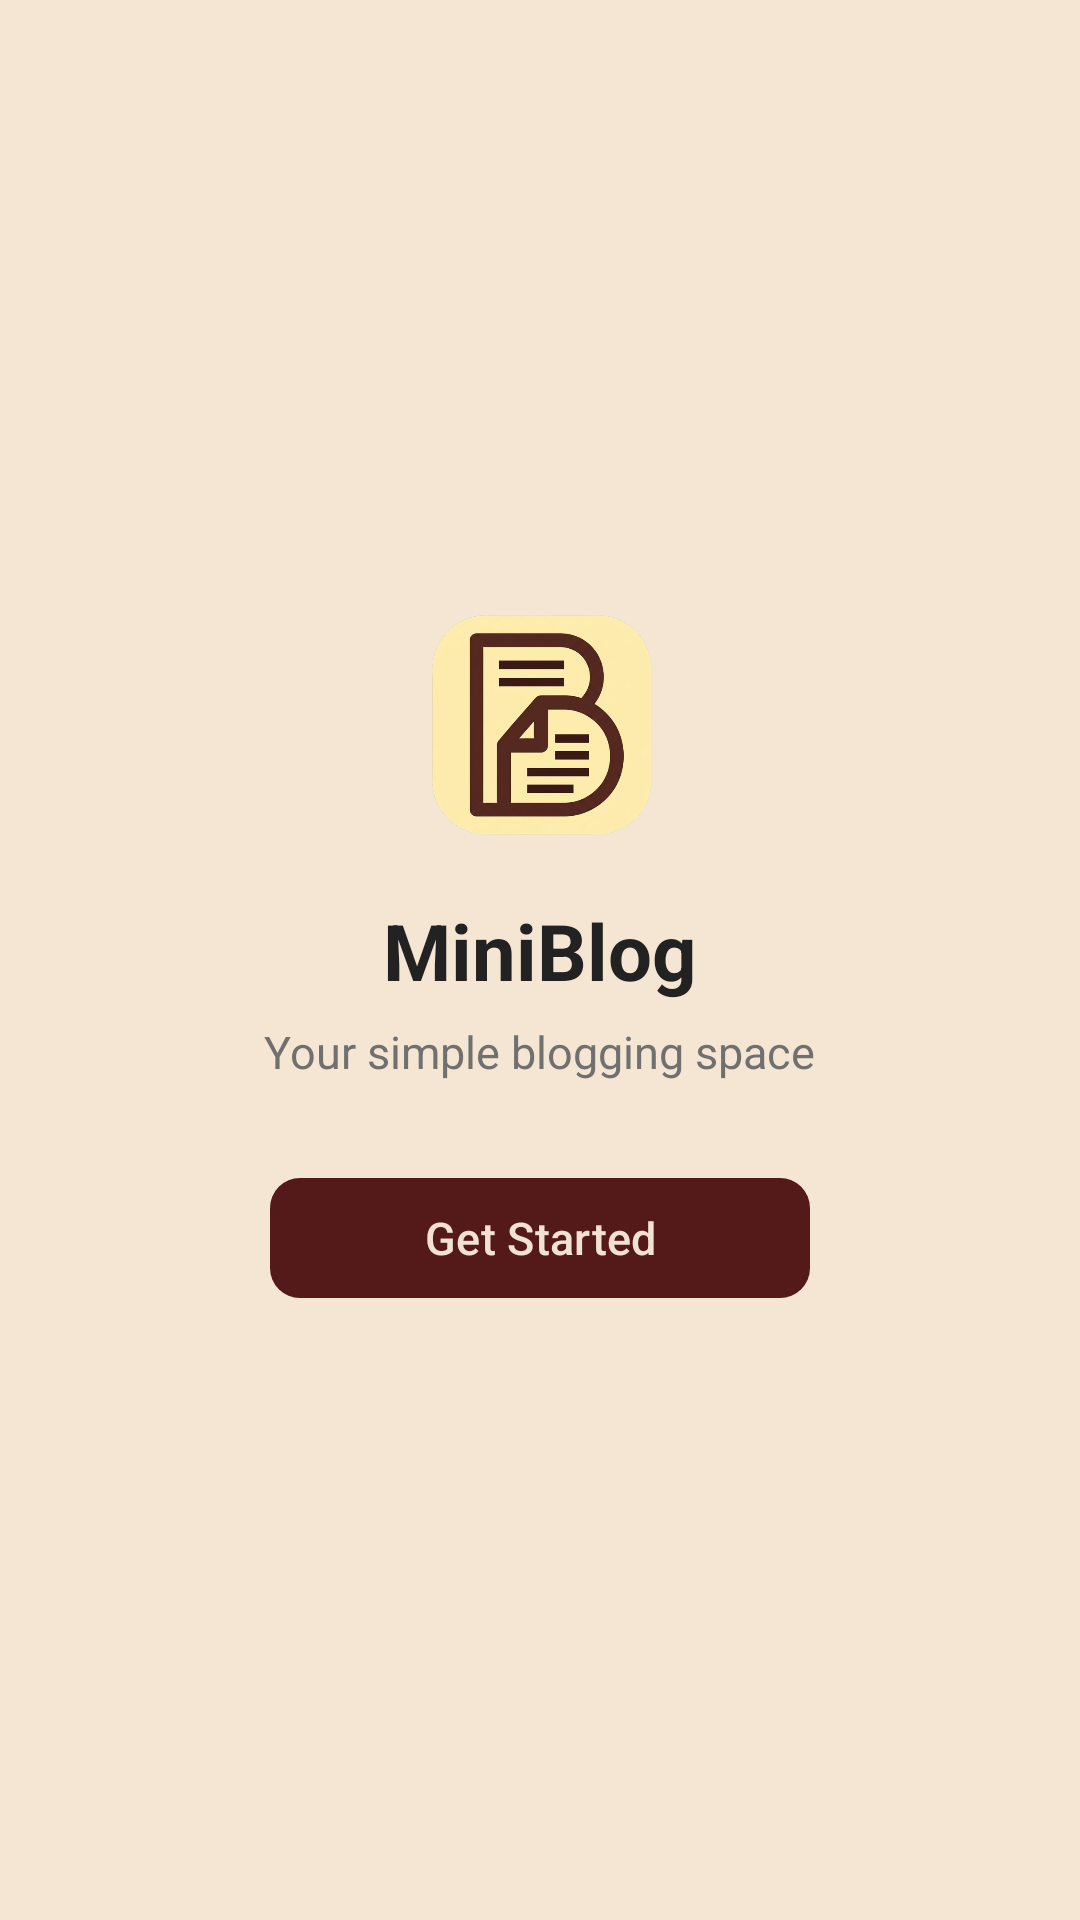

Screen size 1080w x 1920h. Icon name, then its box in pixels as (x1, y1, x2, y2):
appicon: (432, 615, 651, 834)
